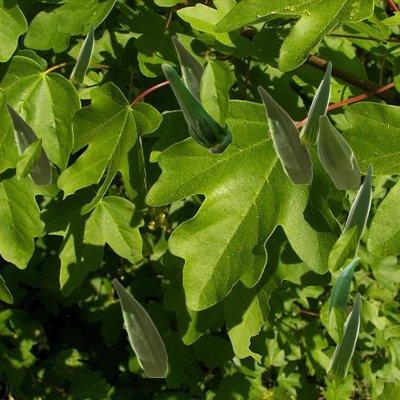okra: (161, 63, 232, 153), (257, 85, 311, 183), (112, 278, 166, 376), (5, 102, 50, 184), (317, 114, 359, 188), (339, 163, 371, 257), (326, 292, 359, 378), (299, 61, 330, 143), (327, 257, 359, 334), (171, 35, 204, 99), (70, 25, 93, 82)
